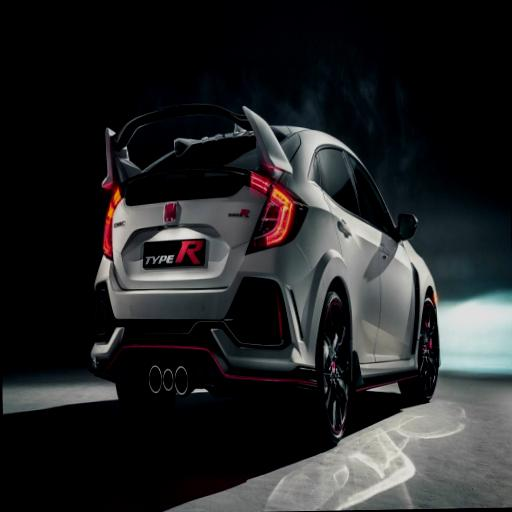Sedan-sDLz: (91, 104, 440, 444)
